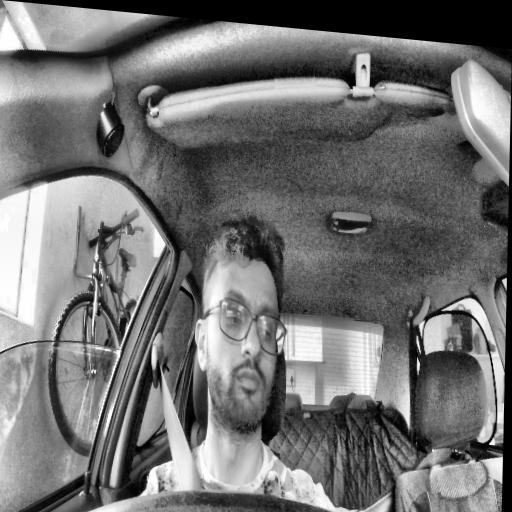awake: (191, 217, 289, 449)
